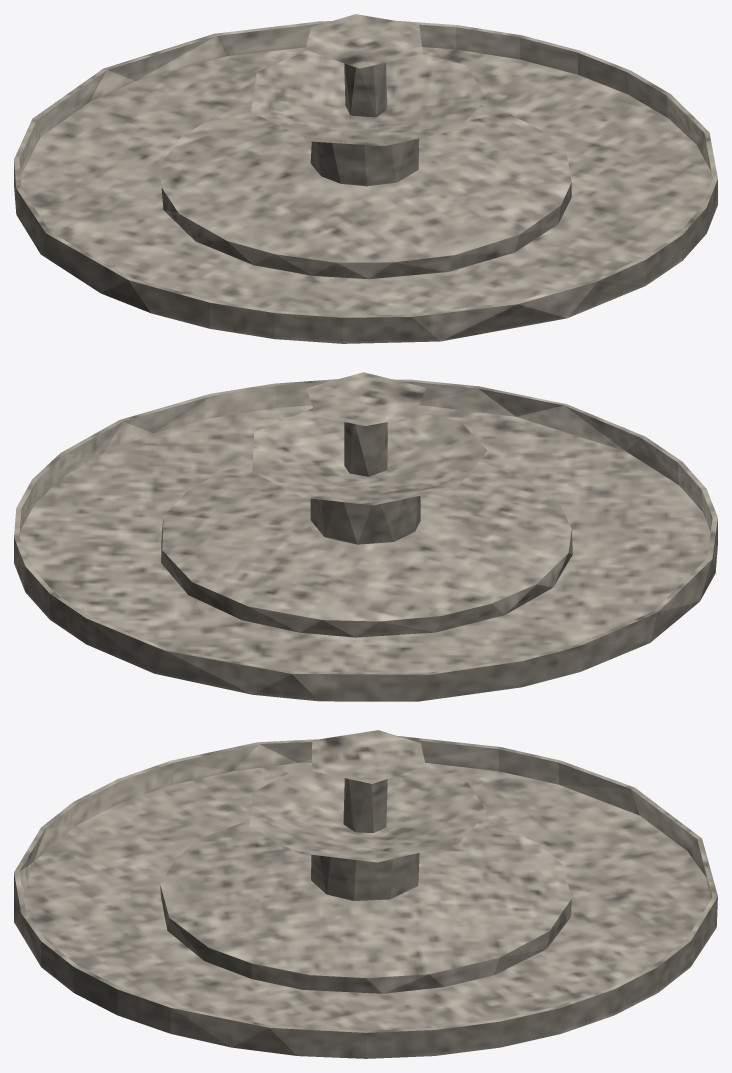
The model's file is fountatin.dae.
3 views of the same model, one above another, from view 1: azimuth 30°, elevation 25°; view 2: azimuth 150°, elevation 25°; view 3: azimuth 270°, elevation 25° (orthographic).
Visible parts, largest first — view 1: Circle; view 2: Circle; view 3: Circle.
Boxes of the visible parts, x1,y1,x2,y2 form: Circle: (14, 14, 717, 343); Circle: (14, 372, 717, 701); Circle: (14, 730, 717, 1058).
Bounding box in the file's own units: 1.07 × 1.07 × 0.2571.
Materials: 1 (1 with a texture image).
